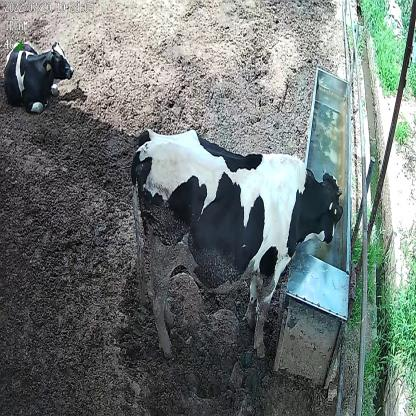cow: (127, 126, 344, 359), (2, 37, 74, 117)
